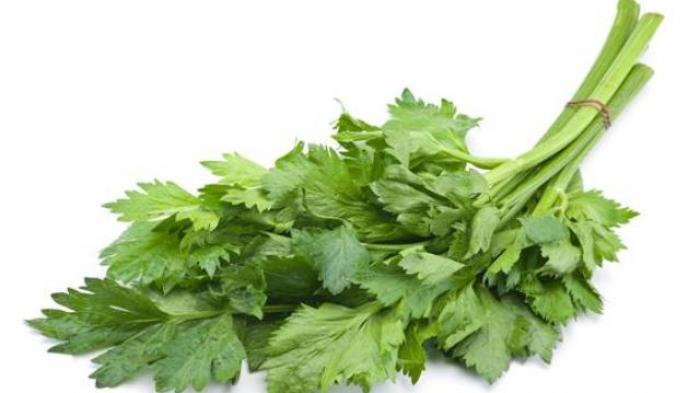Seledri: (164, 83, 686, 364)
